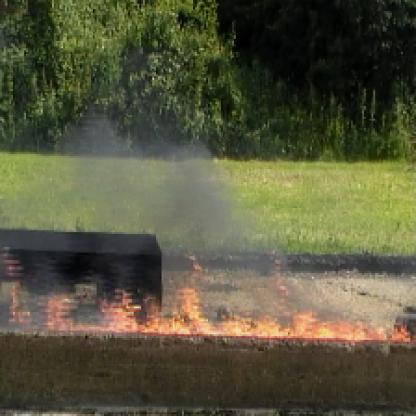Fire: (6, 267, 414, 353)
